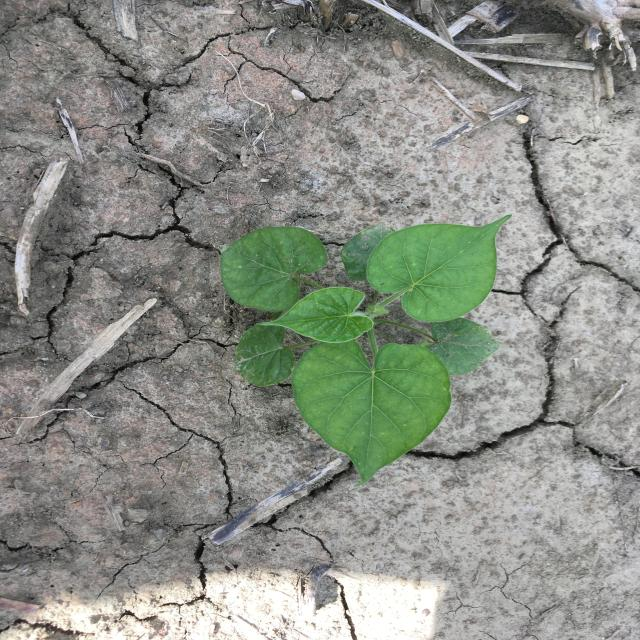MorningGlory: (216, 215, 512, 487)
